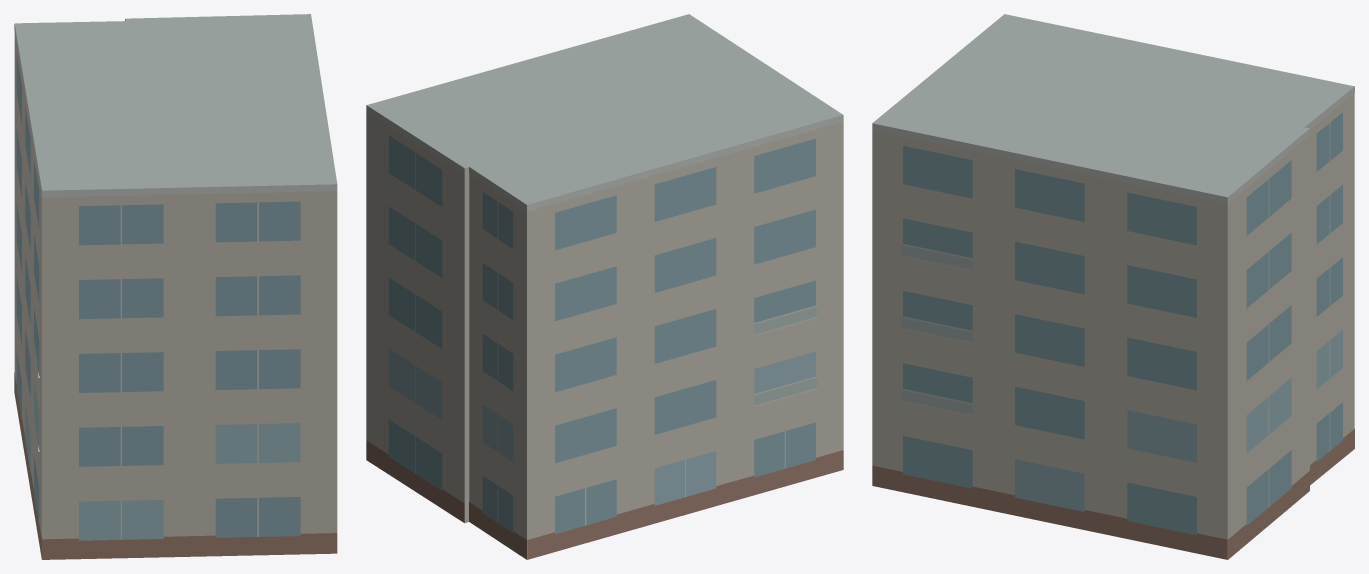
Rendered from survey-upis-32893931.glb.
3 views of the same model, side by side, from view 1: azimuth 30°, elevation 25°; view 2: azimuth 150°, elevation 25°; view 3: azimuth 270°, elevation 25° (orthographic). The views are drawn at different scales.
Parts seen in each view (by area): view 1: survey-upis-32893931.tmp; view 2: survey-upis-32893931.tmp; view 3: survey-upis-32893931.tmp.
Part boxes in pixels (x1,y1,x2,y2): survey-upis-32893931.tmp: (14,14,337,559); survey-upis-32893931.tmp: (366,14,843,559); survey-upis-32893931.tmp: (872,14,1354,559).
Size of the model in its own units: 14.27 by 13.15 by 15.87.
